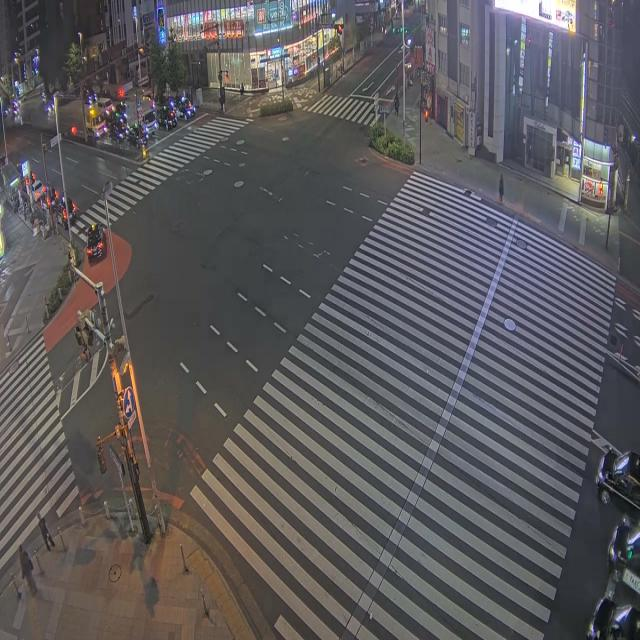car: (596, 449, 639, 517), (608, 519, 639, 593), (586, 598, 639, 639), (54, 193, 78, 225), (86, 224, 105, 261), (169, 96, 195, 119), (156, 105, 177, 130), (127, 123, 148, 147), (143, 109, 159, 135), (109, 120, 127, 142), (32, 180, 46, 202), (96, 97, 114, 113), (55, 203, 67, 227), (45, 100, 54, 114), (2, 104, 12, 116)
truck: (126, 97, 158, 135), (85, 104, 107, 138)
